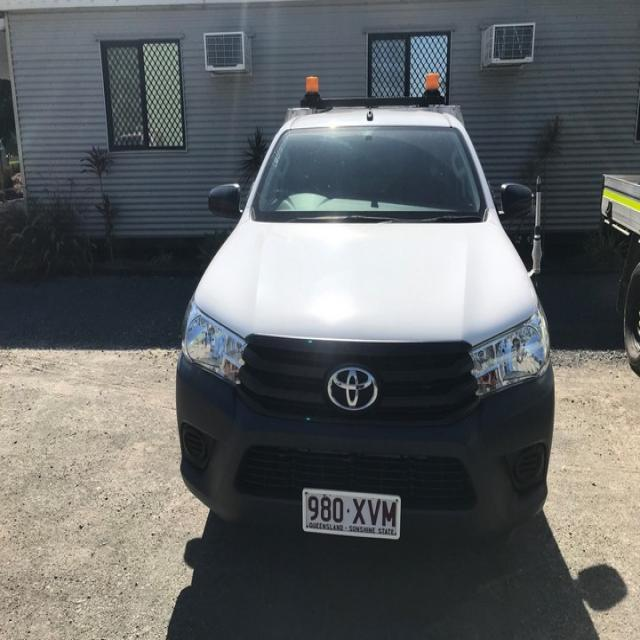light_vehicle: (167, 63, 564, 552)
